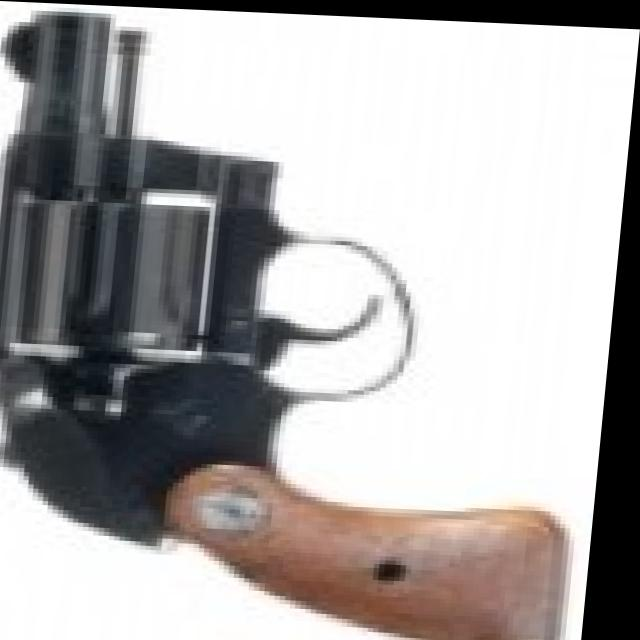handgun: (0, 8, 612, 640)
